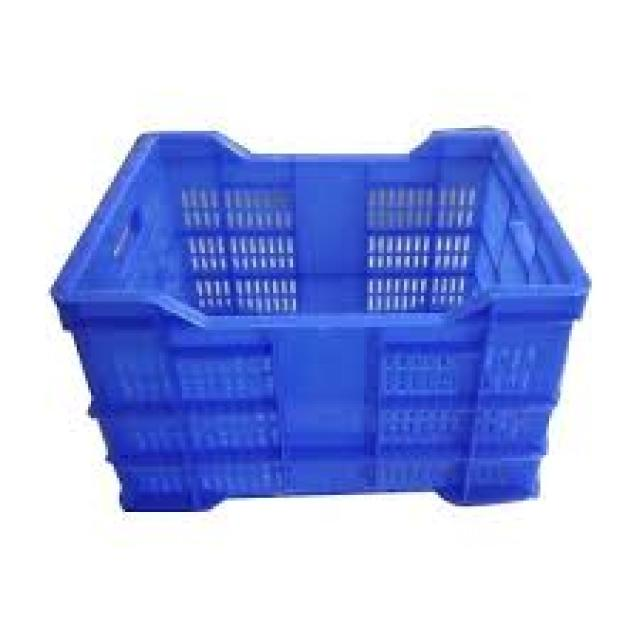basket: (51, 127, 595, 513)
